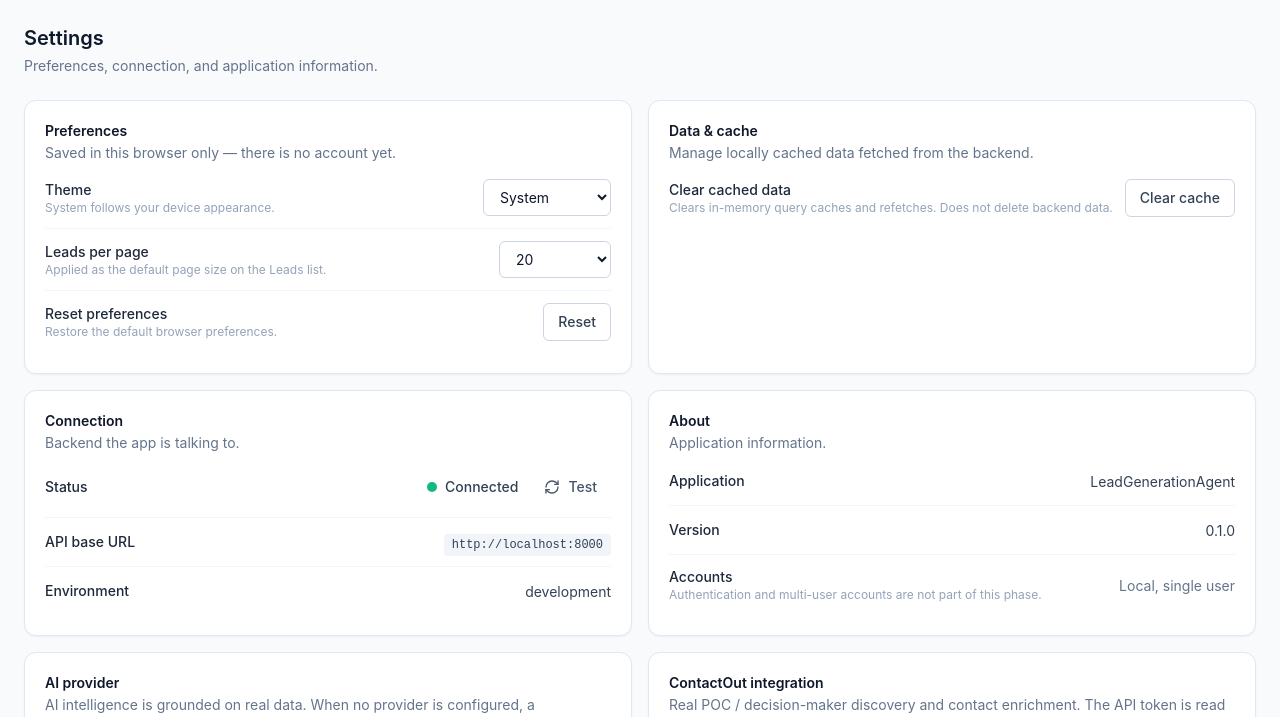
Scenario: SettingsPage › clears cached data with feedback
expect the heading "Settings" is shown: met, box left=24, top=26, right=104, bottom=50
Click the button "Clear cache" at [1180, 198], box left=1125, top=179, right=1235, bottom=217
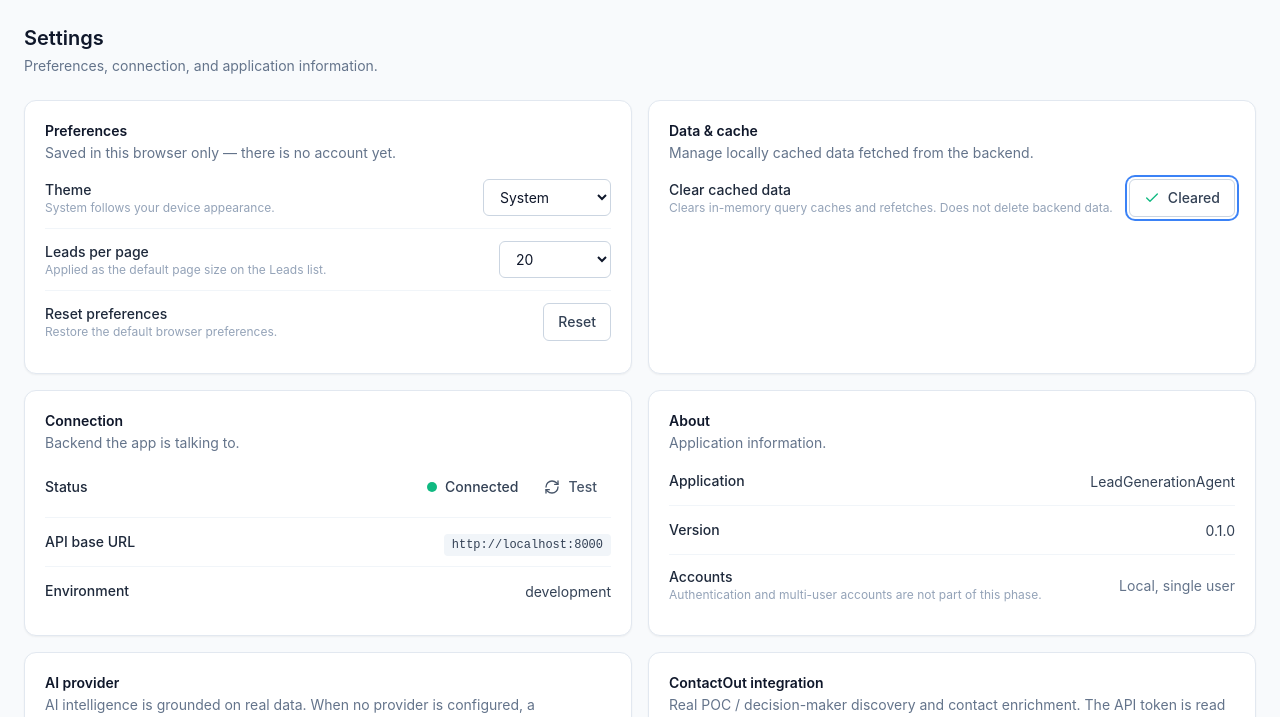
expect the button "Cleared" is shown: met, box left=1129, top=179, right=1235, bottom=217
